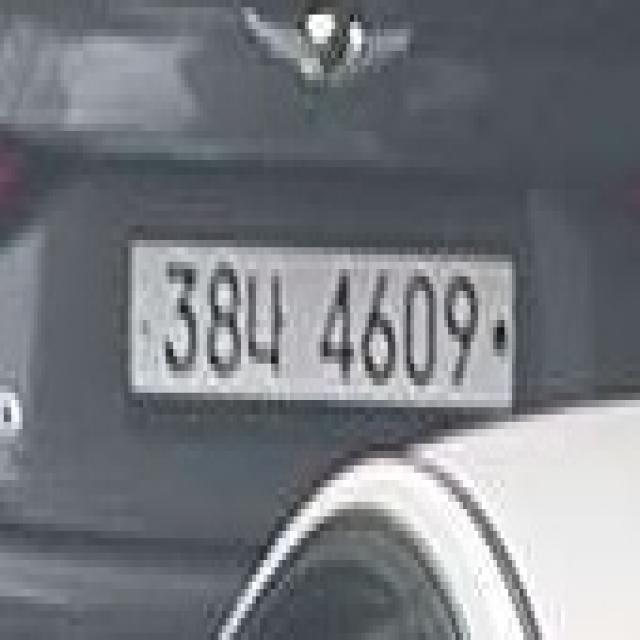0: (399, 262, 437, 393)
3: (162, 255, 203, 378)
4: (316, 262, 354, 378)
6: (358, 262, 395, 385)
8: (207, 255, 245, 378)
9: (444, 269, 478, 386)
license_plate: (128, 233, 520, 422)
na: (245, 262, 286, 371)
